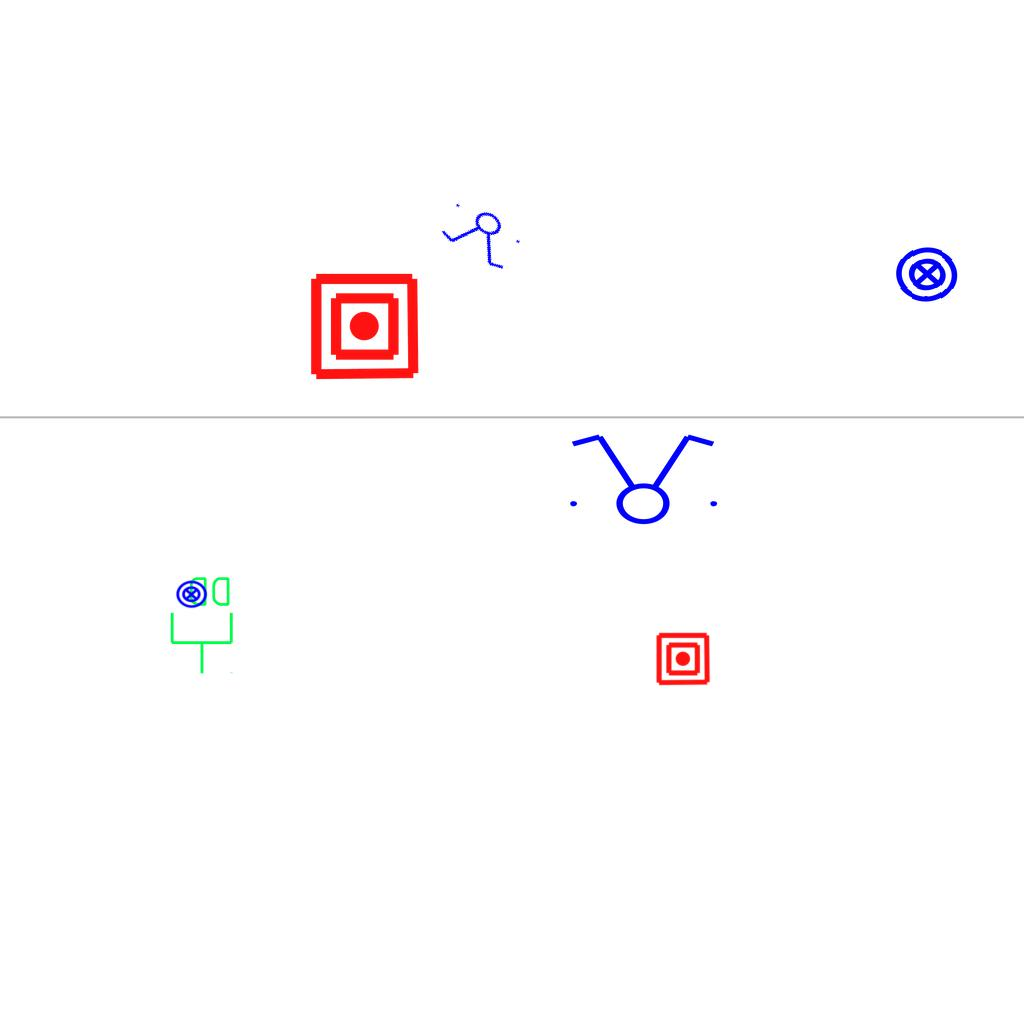Datenanschluss_zweifach: (168, 573, 237, 676)
NAM-Nichtautomatischer_Melder: (308, 270, 421, 383), (655, 631, 711, 687)
Serienschalter: (558, 430, 726, 526), (433, 192, 531, 278)
Taster_beleuchtet: (892, 239, 962, 309), (175, 578, 208, 611)
